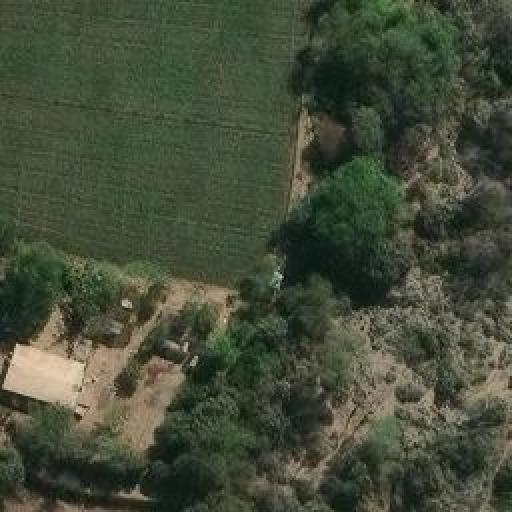manzanas: (0, 251, 207, 437)
